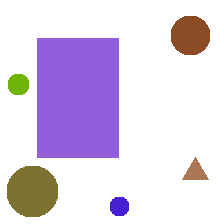circle: (7, 166, 57, 216), (171, 16, 209, 54), (8, 74, 28, 94), (110, 197, 128, 215)
rectangle: (37, 38, 118, 157)
triangle: (182, 157, 208, 179)
